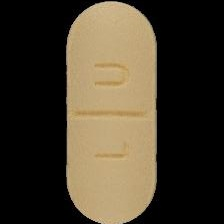0615-7991: (0, 0, 224, 224)
